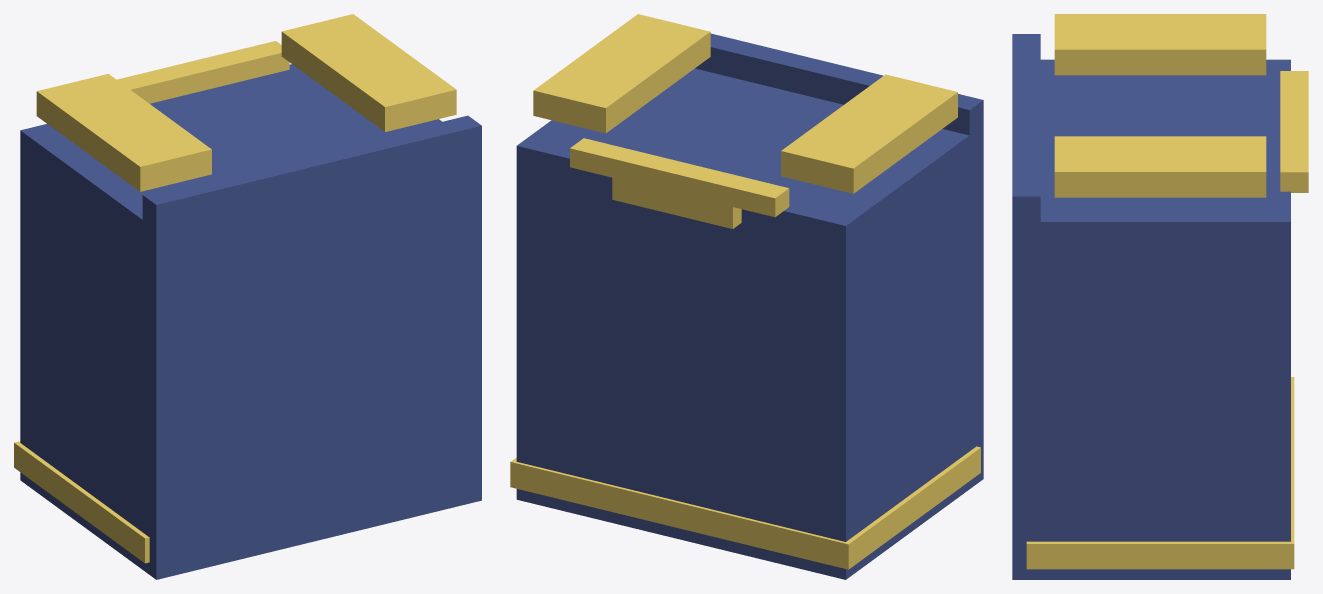
Rendered from vestido_tronco.glb.
3 renders of one model, left to right at view 1: azimuth 30°, elevation 25°; view 2: azimuth 150°, elevation 25°; view 3: azimuth 270°, elevation 25°, orthographic. The views are drawn at different scales.
Visible parts, largest first — view 1: vestido_tronco; view 2: vestido_tronco; view 3: vestido_tronco.
Part boxes in pixels (<box>): vestido_tronco: <box>14,14,481,579</box>; vestido_tronco: <box>510,14,983,579</box>; vestido_tronco: <box>1012,14,1308,579</box>.
Size of the model in its own units: 0.56 by 0.635 by 0.42.
